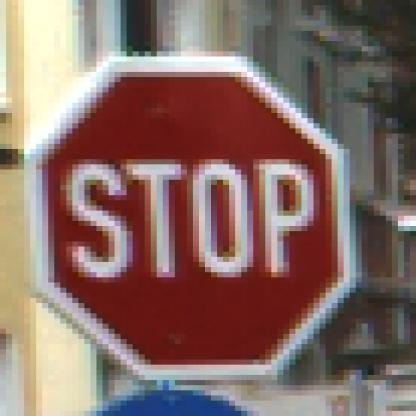stop: (25, 56, 361, 385)
